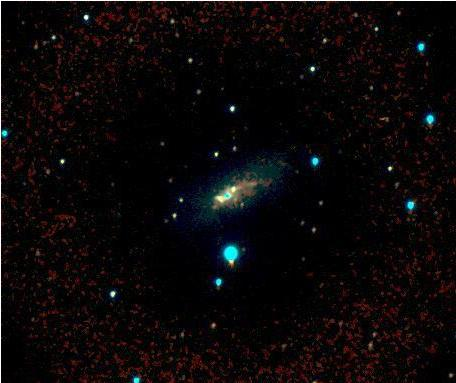star: (198, 192, 228, 222)
